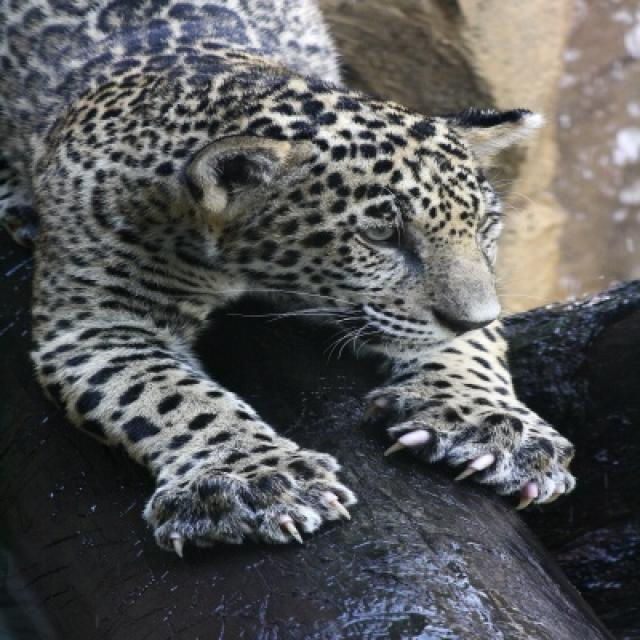Jaguar: (21, 0, 576, 562)
